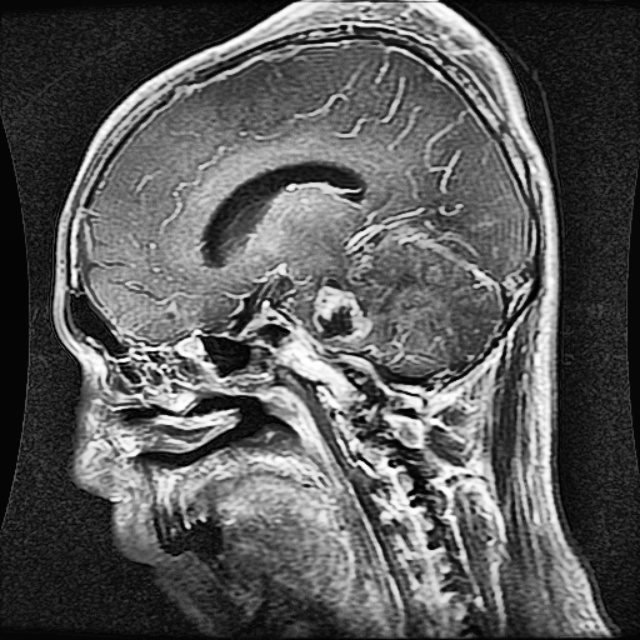Meningioma: (314, 282, 370, 342)
